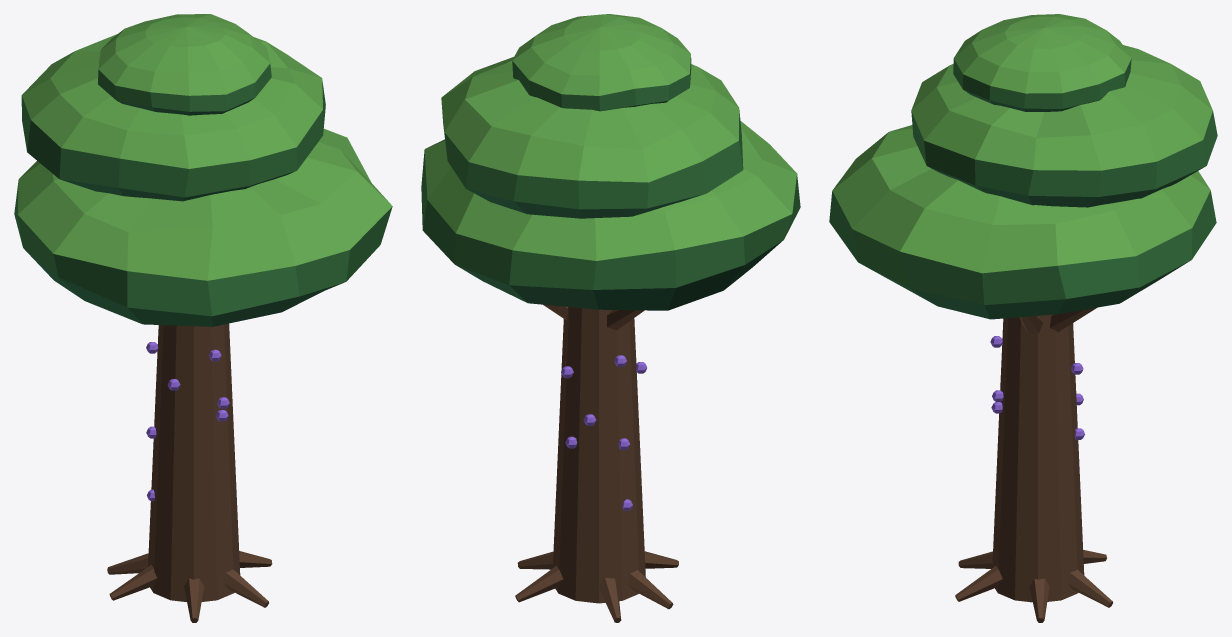
Rendered from tree_giant.glb.
3 views of the same model, side by side, from view 1: azimuth 30°, elevation 25°; view 2: azimuth 150°, elevation 25°; view 3: azimuth 270°, elevation 25° (orthographic).
Parts seen in each view (by area): view 1: tree_giant; view 2: tree_giant; view 3: tree_giant.
Boxes of the visible parts, x1=… form: tree_giant: x1=14, y1=14, x2=392, y2=622; tree_giant: x1=421, y1=14, x2=800, y2=622; tree_giant: x1=829, y1=14, x2=1217, y2=622.
Size of the model in its own units: 29.35 by 47.49 by 30.07.
